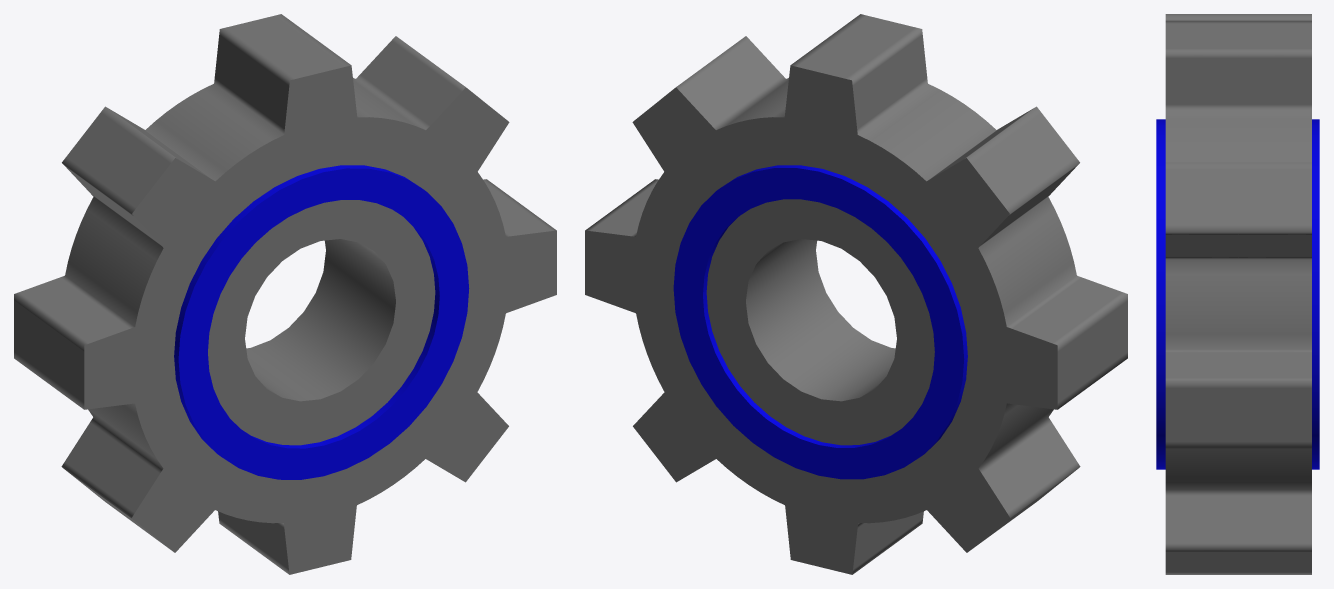
The model's file is Tuerca_3.fbx.
The picture shows the model from 3 angles, left to right: view 1: azimuth 30°, elevation 25°; view 2: azimuth 150°, elevation 25°; view 3: azimuth 270°, elevation 25°; orthographic projection. The views are drawn at different scales.
Visible parts, largest first — view 1: pCylinder6; view 2: pCylinder6; view 3: pCylinder6.
Part boxes in pixels (x1,y1,x2,y2): pCylinder6: (14, 14, 556, 574); pCylinder6: (585, 14, 1127, 574); pCylinder6: (1156, 14, 1319, 574).
Size of the model in its own units: 1.17 by 1.17 by 0.3372.
